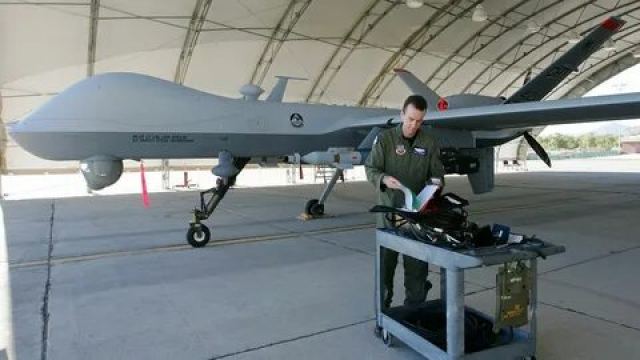military drone: (10, 16, 640, 246)
